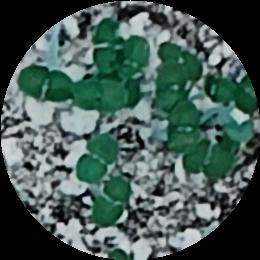Basil: (201, 73, 259, 113), (66, 77, 131, 112), (76, 133, 120, 182), (113, 36, 151, 84), (161, 38, 203, 79), (94, 180, 135, 222), (168, 104, 201, 154), (22, 65, 65, 103), (185, 143, 232, 176), (149, 70, 190, 106), (93, 18, 118, 74)
